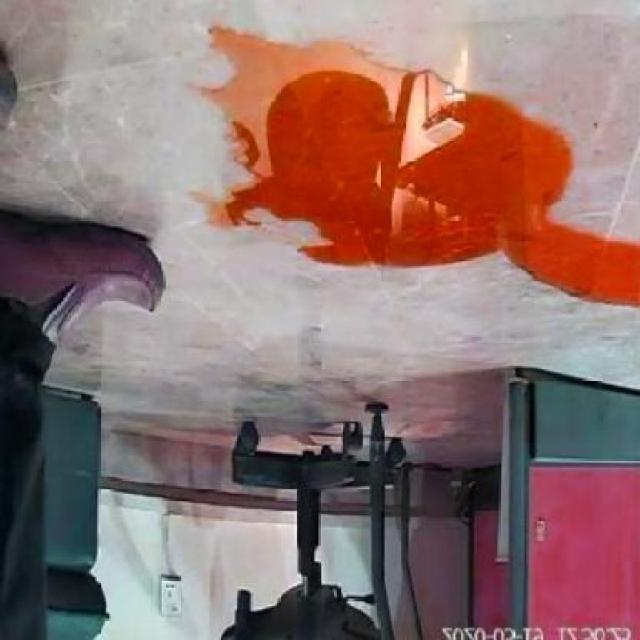spillage: (204, 27, 640, 308)
